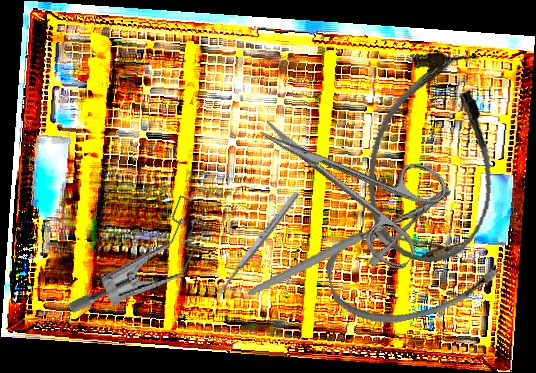Cannula: (359, 44, 507, 269), (320, 206, 504, 337)
Iris Scissors: (237, 80, 458, 274)
Needle Holder: (236, 185, 463, 296)
Speculum: (66, 165, 220, 350)
Surgical Spoon: (212, 190, 301, 300)
